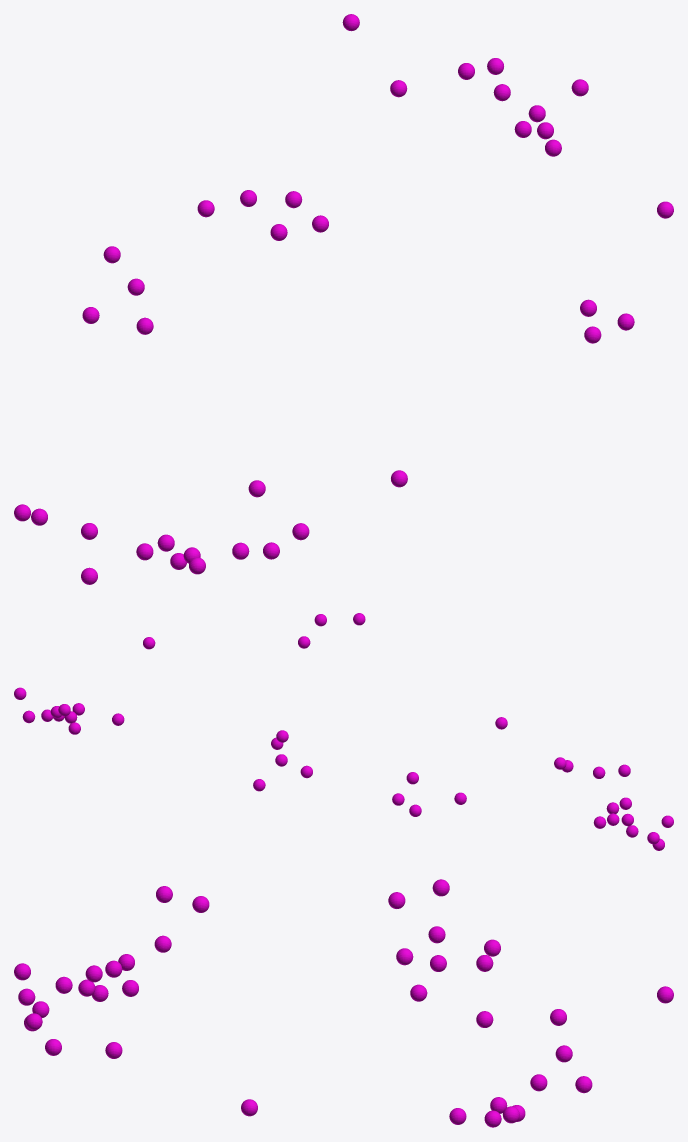
Rendered from Orbs.fbx.
The picture shows the model from 3 angles, top to bottom: view 1: azimuth 30°, elevation 25°; view 2: azimuth 150°, elevation 25°; view 3: azimuth 270°, elevation 25°; orthographic projection. The views are drawn at different scales.
Size of the model in its own units: 9843 by 3127 by 7719.
